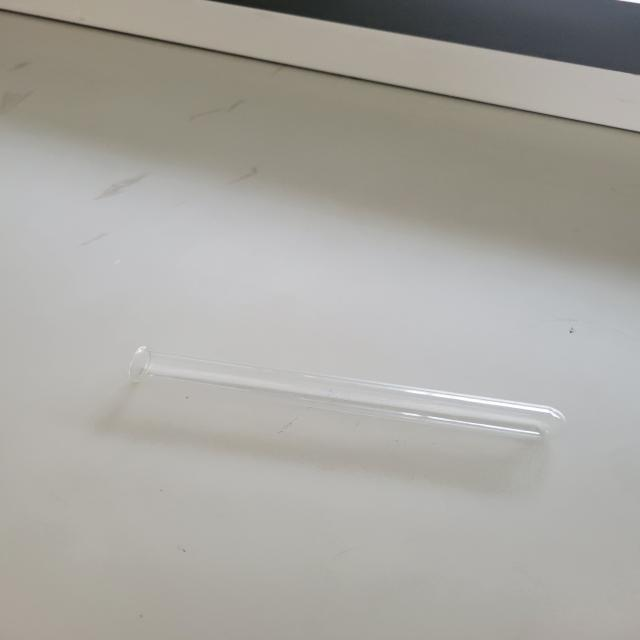Test_Tube: (89, 310, 575, 489)
